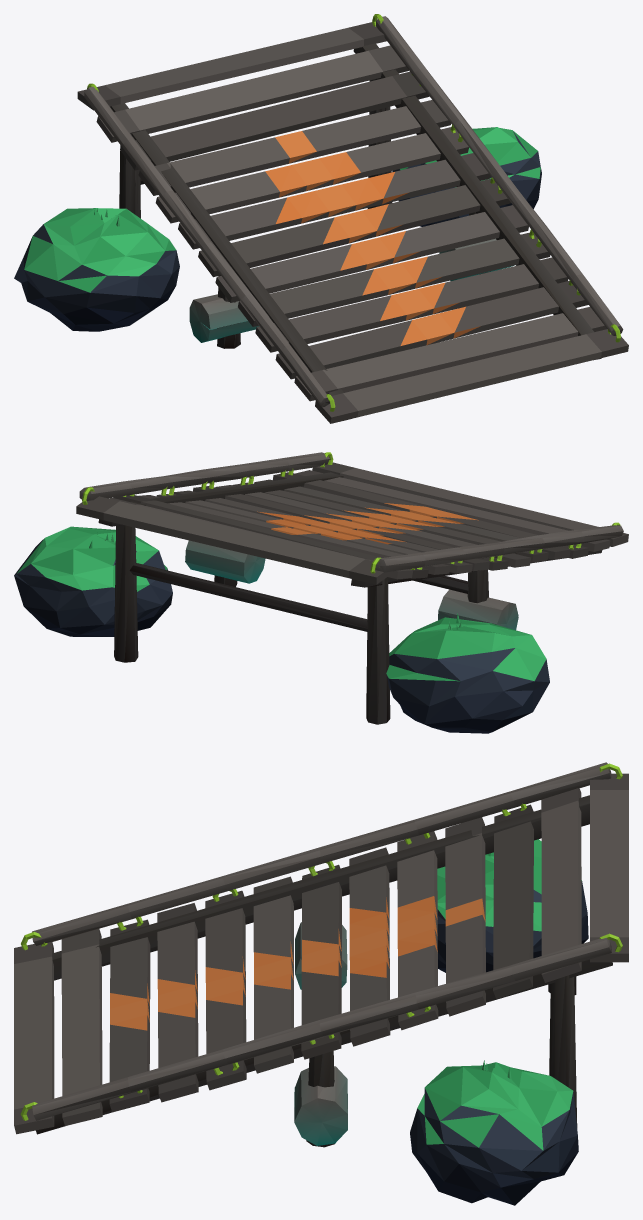
File: riverrush_short_ramp_mossy_414754 (1).glb
The picture shows the model from 3 angles, top to bottom: view 1: azimuth 30°, elevation 25°; view 2: azimuth 150°, elevation 25°; view 3: azimuth 270°, elevation 25°; orthographic projection. The views are drawn at different scales.
Parts seen in each view (by area): view 1: Tanjakan_Jumping_Pendek; view 2: Tanjakan_Jumping_Pendek; view 3: Tanjakan_Jumping_Pendek.
Boxes of the visible parts, left/top/right/bottom form: Tanjakan_Jumping_Pendek: left=14, top=14, right=628, bottom=423; Tanjakan_Jumping_Pendek: left=14, top=452, right=628, bottom=733; Tanjakan_Jumping_Pendek: left=14, top=762, right=628, bottom=1205.
Size of the model in its own units: 9.56 by 3.45 by 8.21.
